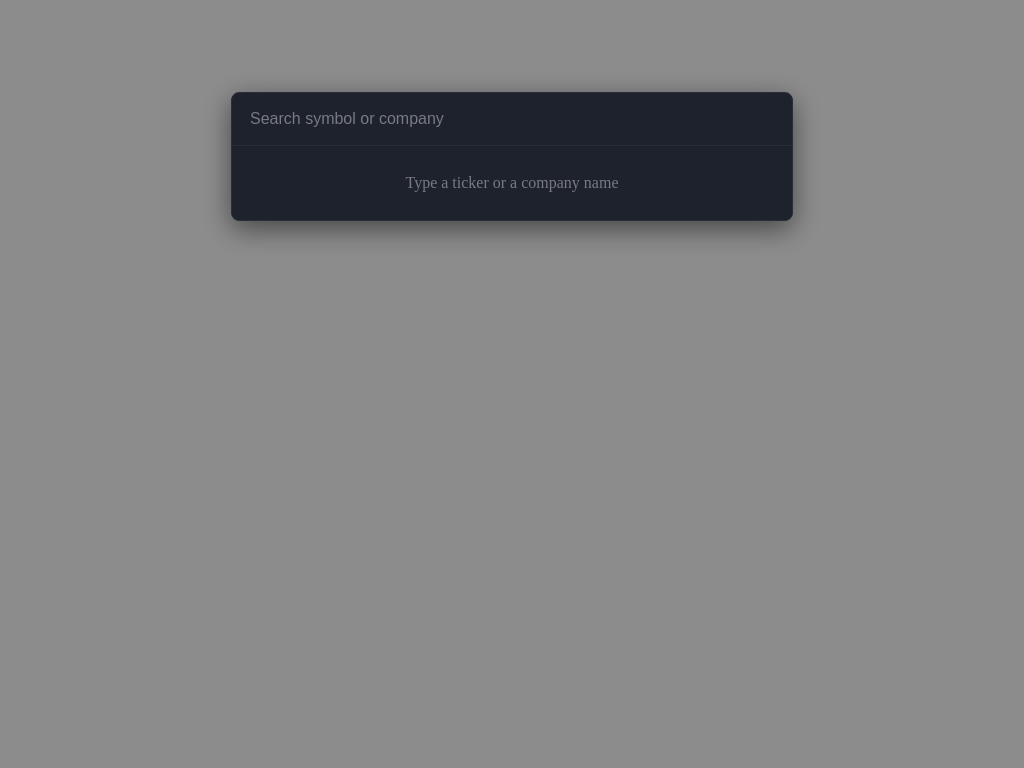
Test: Should say when the search fails
In the field with placeholder "Search symbol or company": coordinates (512, 120) [232,93,792,146], type "app"
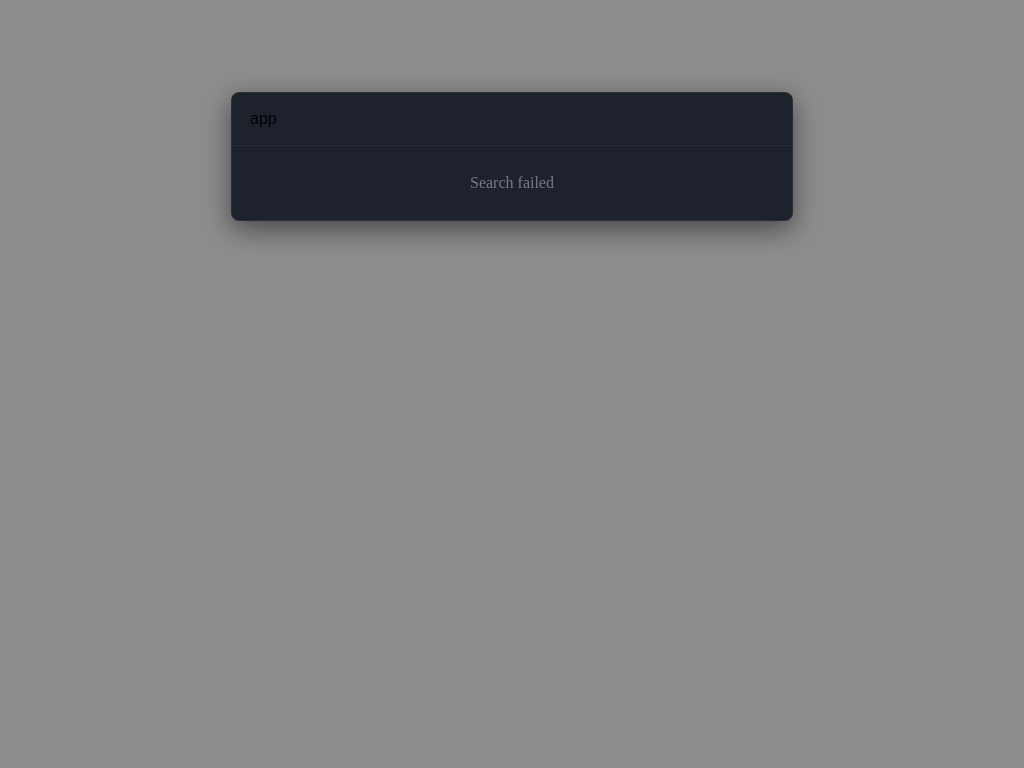
Expected: the text "Search failed" is shown, [470,174,554,191]
